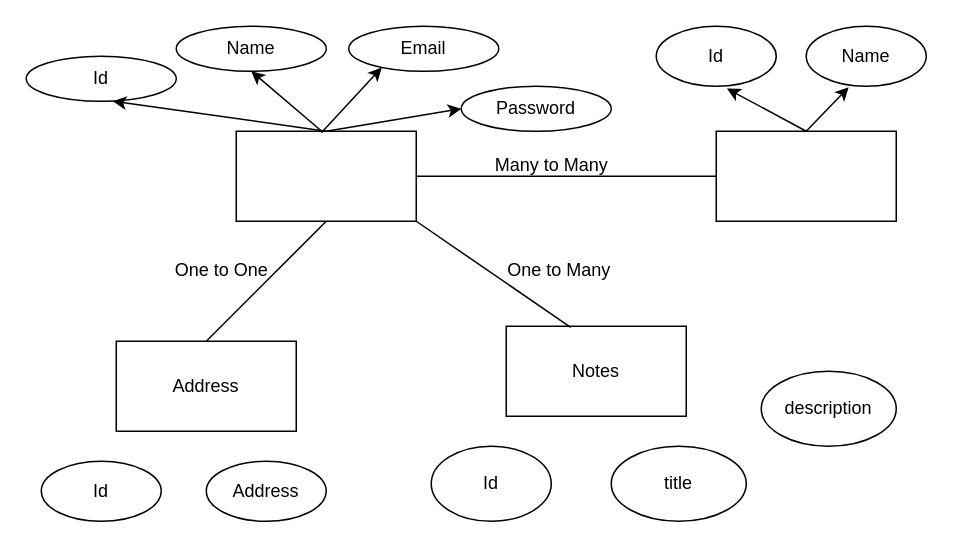
The diagram is 953 pixels wide and 548 high, and some of its shapes have lost their labels. Here are the shapes that lost their labels. From the top down, the box of each, then its label:
(235, 130, 416, 221): User
(715, 130, 896, 221): Roles
